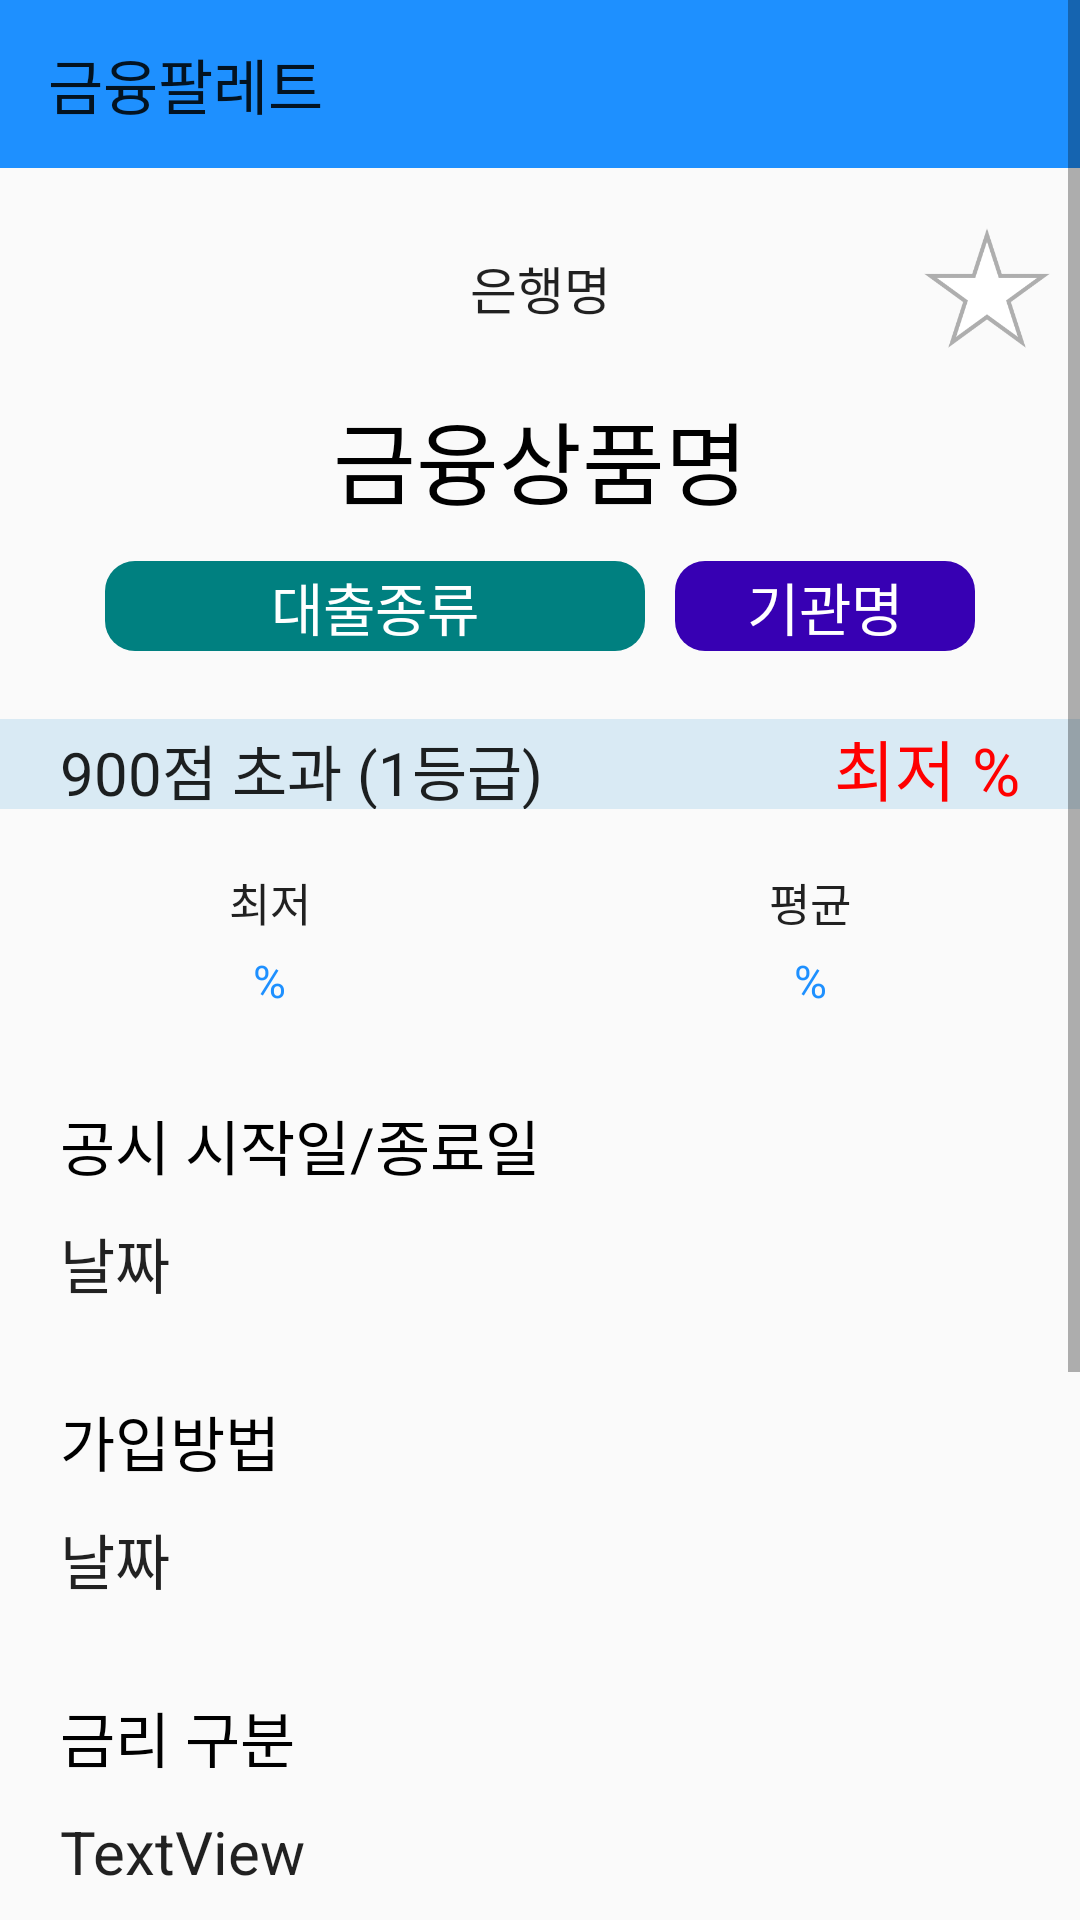

Locate icon controls on the screen. Image size 1080w x 1920h, boxes as box=[x1, y1, x2, y2].
empty star: box=[925, 230, 1049, 347]
